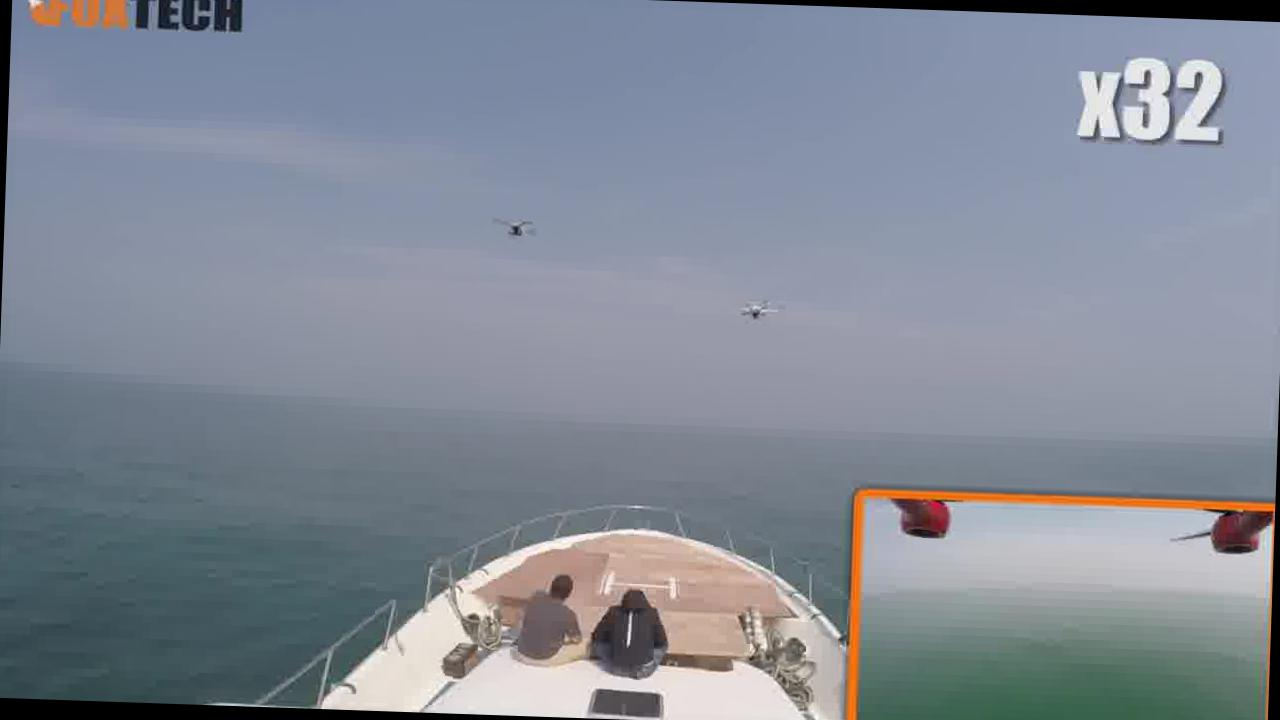drone: (485, 210, 550, 252), (736, 290, 792, 332)
